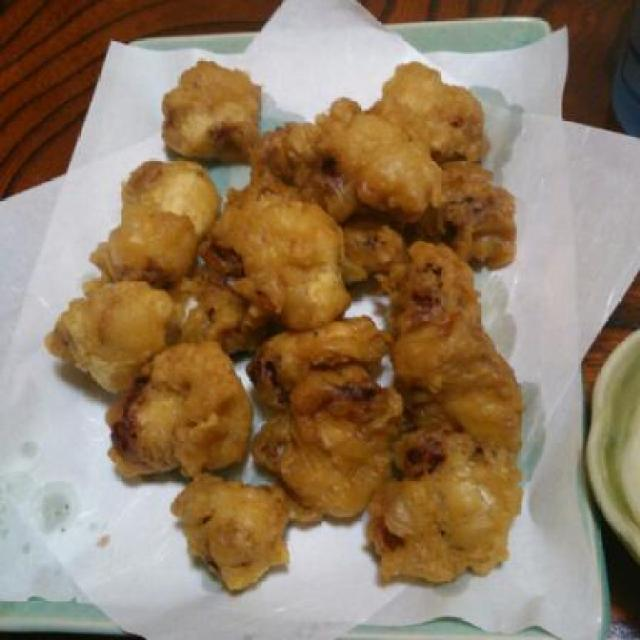Chicken nugget: (64, 47, 561, 618)
